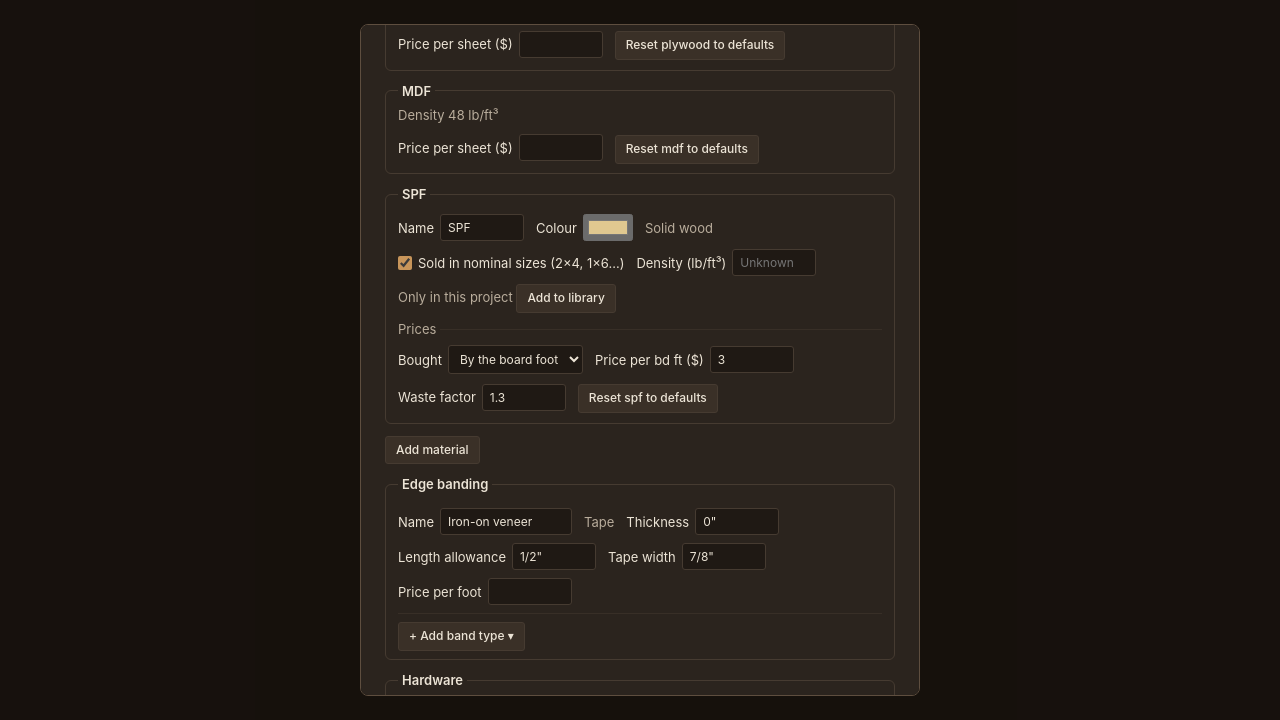
Test case: Sold in nominal sizes (custom materials spec §5) › a nominal row's defaults are the nominal stock list: by the piece from board foot, and Reset
The width and height of the screenshot is (1280, 720).
(page scrolled)
Select "By the piece" in the dropdown named "SPF: bought". click: (515, 360)
box: [448,345,583,374]
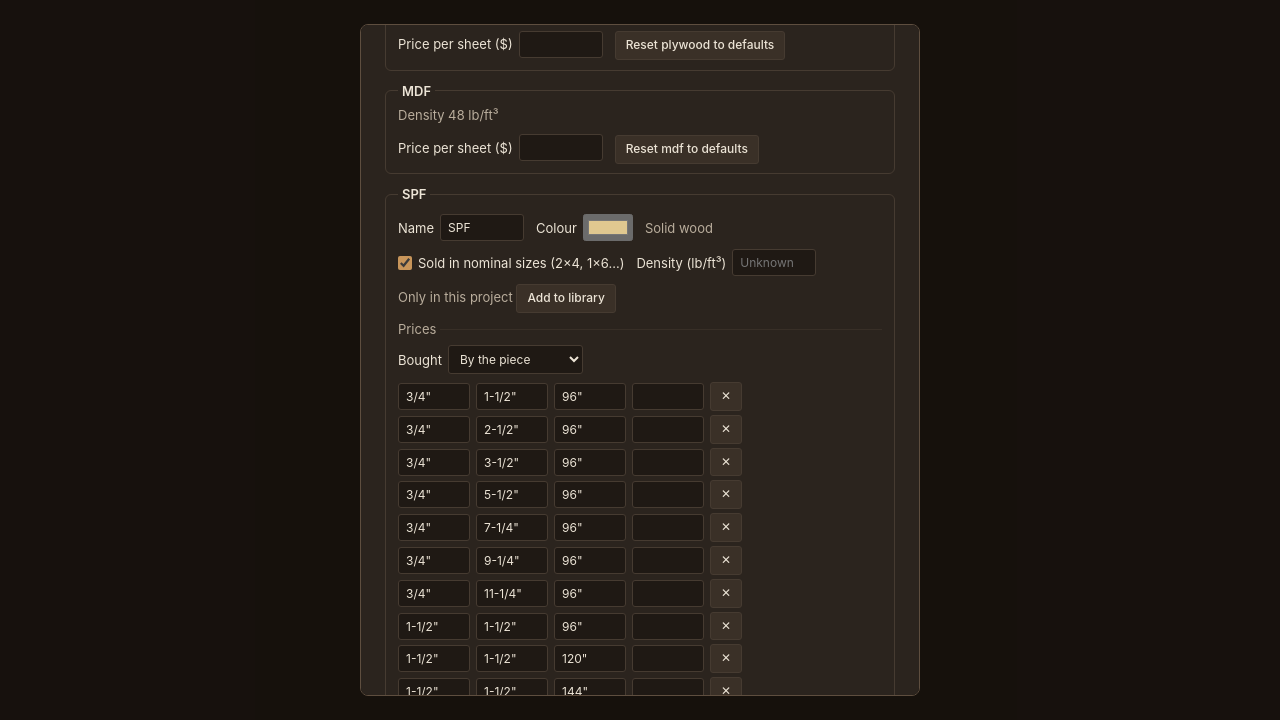
Expected: the number of fields named "SPF size 1: width" is 29
Replace the text in the field named "SPF size 1: width" with "9". click: (512, 396)
box: [476,383,548,410]
(page scrolled)
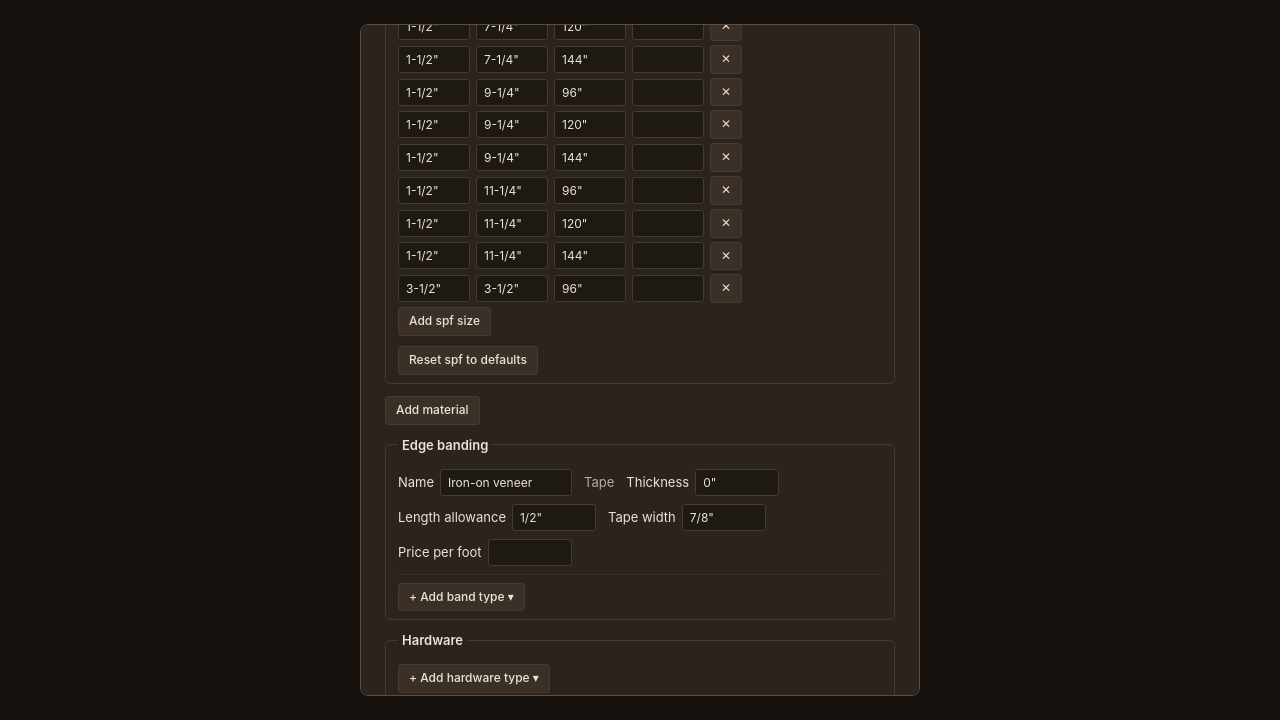
Click the button "Reset spf to defaults". click: (468, 360)
box: [398,346,538,375]
(page scrolled)
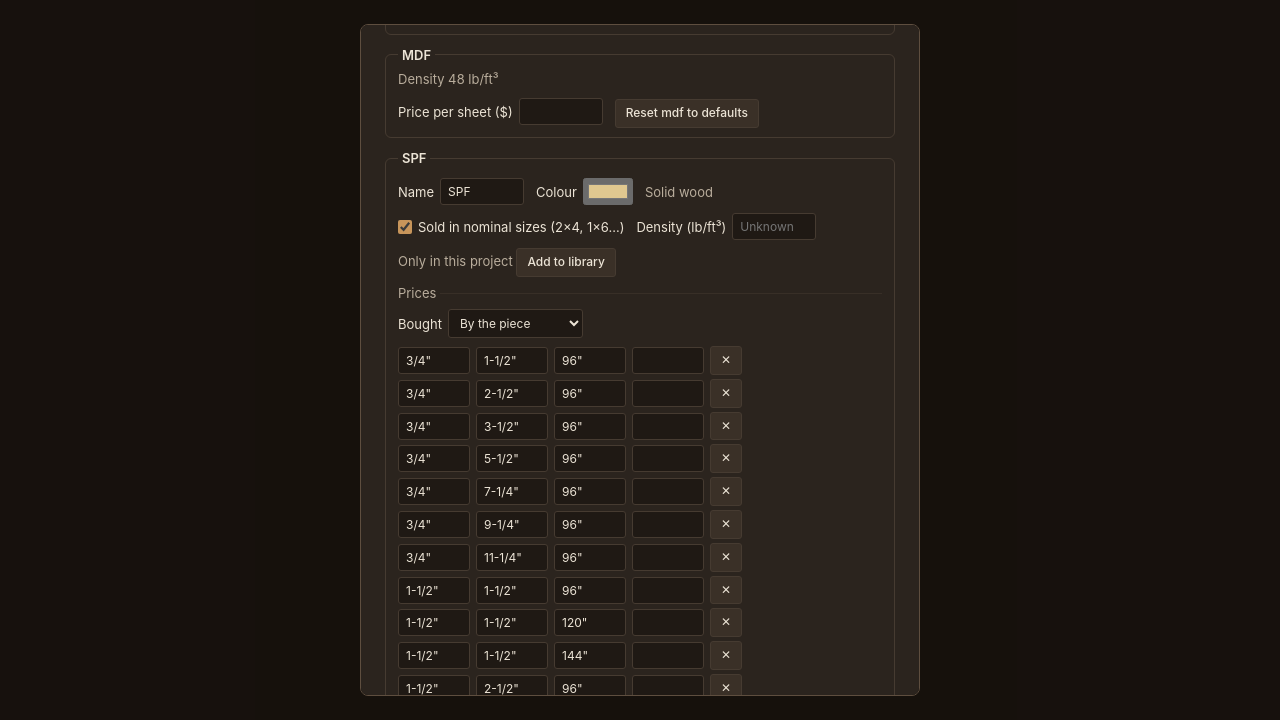
Expected: the field named "SPF size 1: width" does not hold "9", [476,347,548,374]
Expected: the number of fields named "SPF size 1: width" is 29
